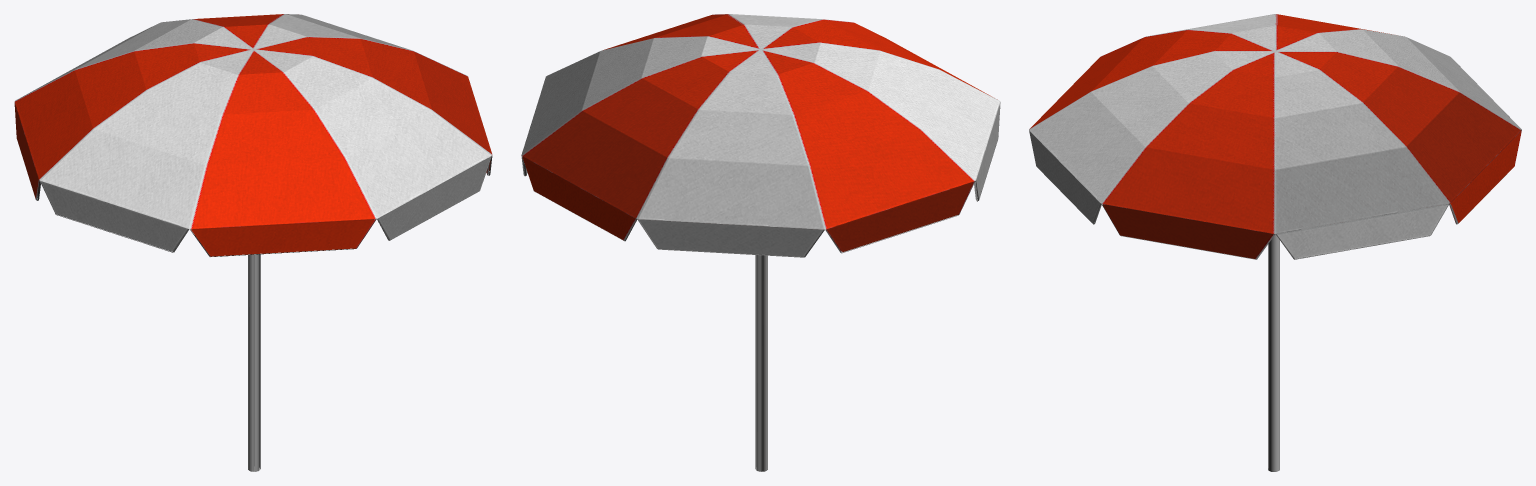
The model's file is ETC0610062.fbx.
3 views of the same model, side by side, from view 1: azimuth 30°, elevation 25°; view 2: azimuth 150°, elevation 25°; view 3: azimuth 270°, elevation 25° (orthographic).
Parts seen in each view (by area): view 1: smETC0610062; view 2: smETC0610062; view 3: smETC0610062.
Part boxes in pixels (x1,y1,x2,y2): smETC0610062: (14,14,492,471); smETC0610062: (521,14,1000,471); smETC0610062: (1029,14,1521,471).
Size of the model in its own units: 325 by 304 by 325.
